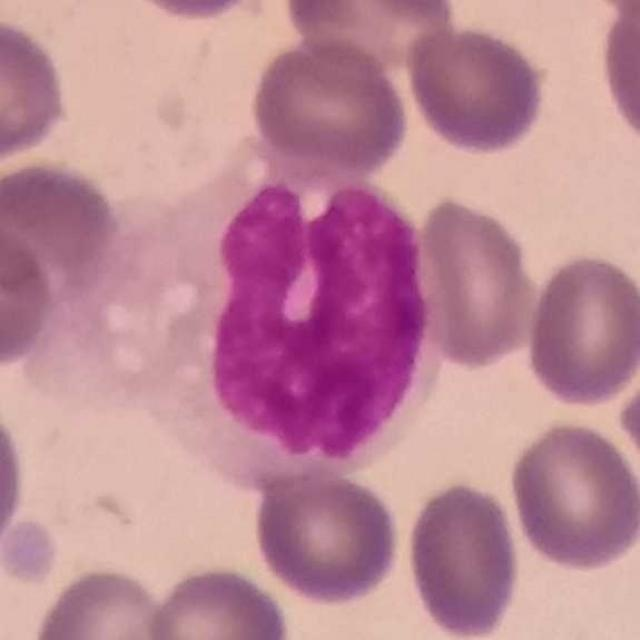Monocyte: (42, 164, 440, 471)
RBC: (246, 34, 412, 180), (411, 191, 541, 372), (249, 463, 405, 609), (504, 416, 640, 573), (401, 20, 552, 158), (401, 477, 524, 640), (521, 249, 640, 411), (0, 157, 125, 309), (280, 0, 460, 76), (140, 561, 295, 640), (0, 10, 73, 172), (29, 562, 176, 640), (0, 212, 60, 378), (595, 1, 640, 155), (0, 388, 30, 568), (110, 0, 278, 23), (616, 354, 640, 502), (583, 0, 640, 26)
